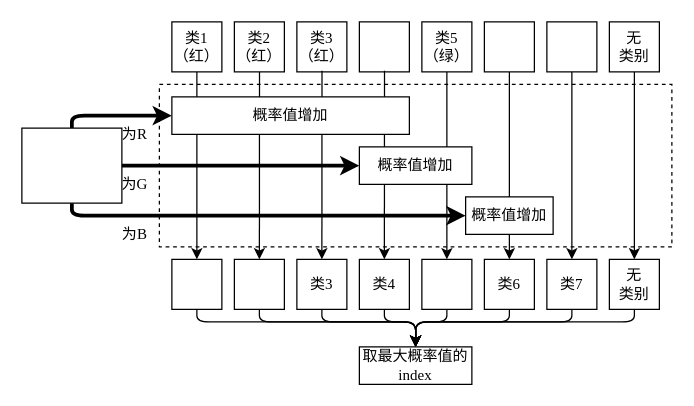
The diagram is 694 pixels wide and 406 high, and some of its shapes have lost their labels. The box of each missing label's shape, as (x1, y1, x2, y2) in pixels:
比较 R、G、B 三者 的最大者: (21, 127, 122, 203)
类 1: (171, 258, 222, 309)
类 2: (233, 258, 284, 309)
类 4 （黄）: (358, 21, 409, 72)
类 5: (421, 258, 472, 309)
类 6 （蓝）: (483, 21, 534, 72)
类 7 （黑）: (546, 21, 597, 72)
